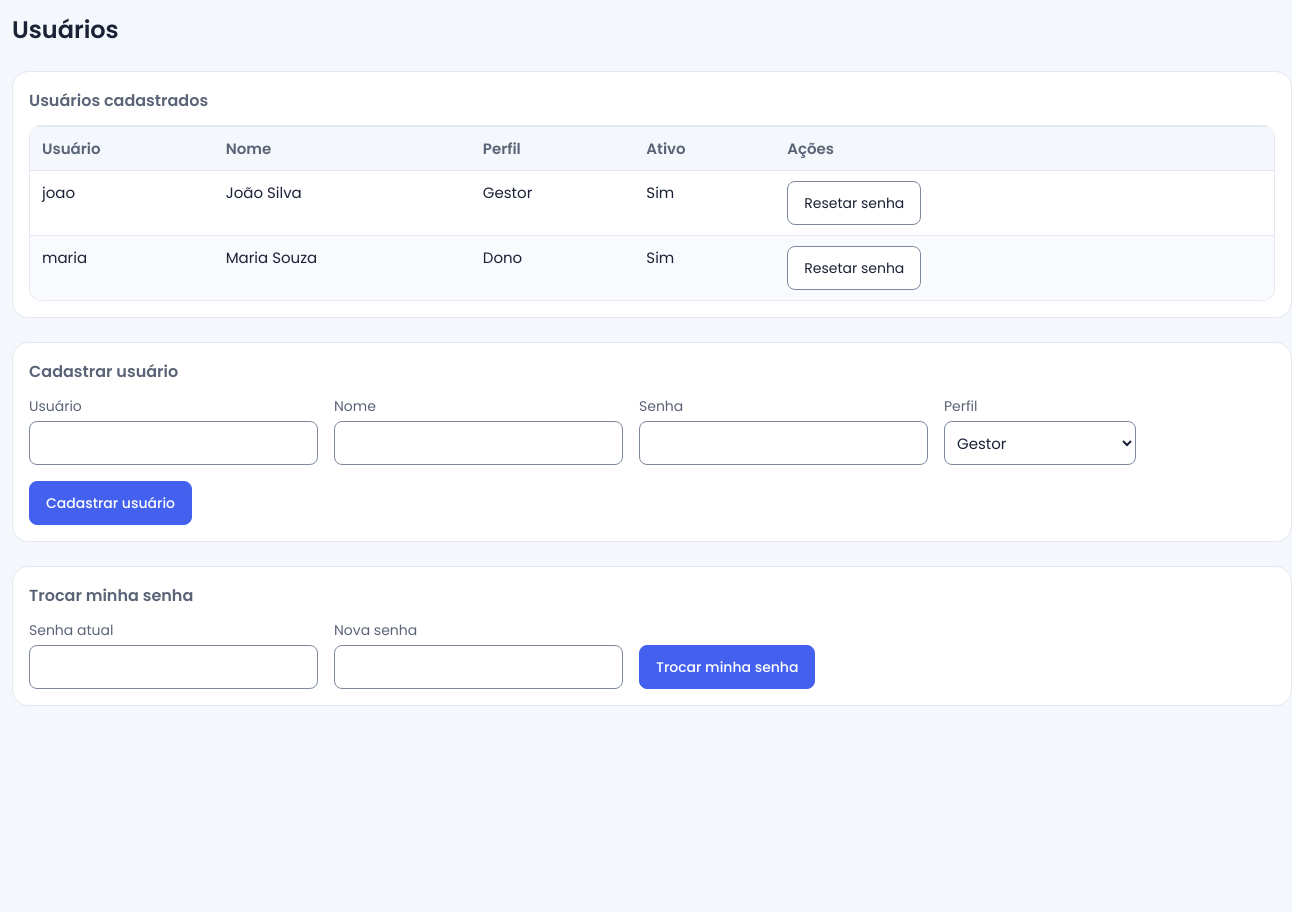
Test: UsuariosPage › trocar a própria senha informando a senha atual errada (mock retorna erro) exibe mensagem de erro e mantém a sessão logada
expect the cell "joao" is shown: met, box [30,170,214,236]
Type "senhaErrada" into the password field labelled "Senha atual" at [174, 667], box [29,645,318,689]
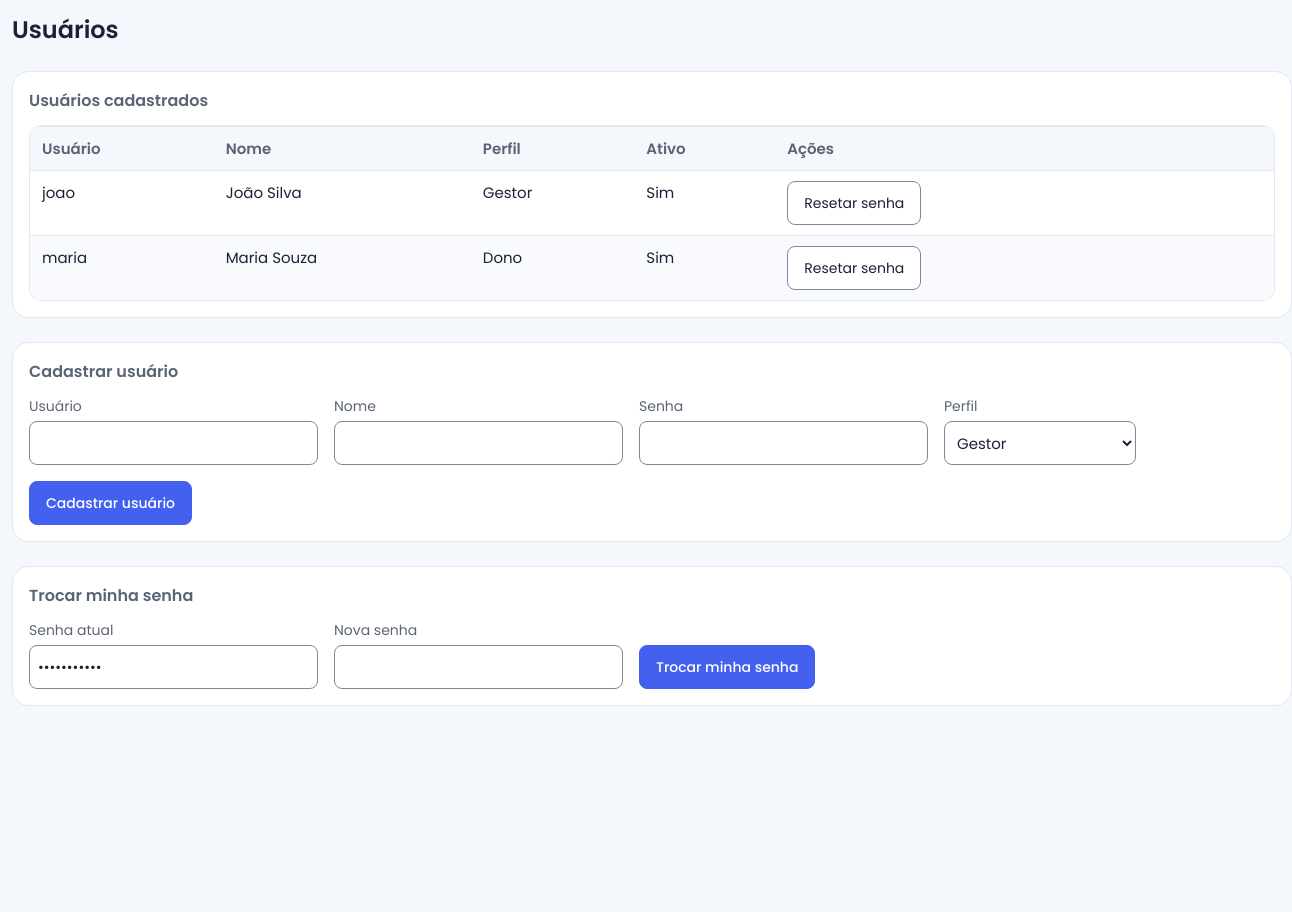
Type "novaSenha123" into the password field labelled "Nova senha" at [478, 667], box [334,645,623,689]
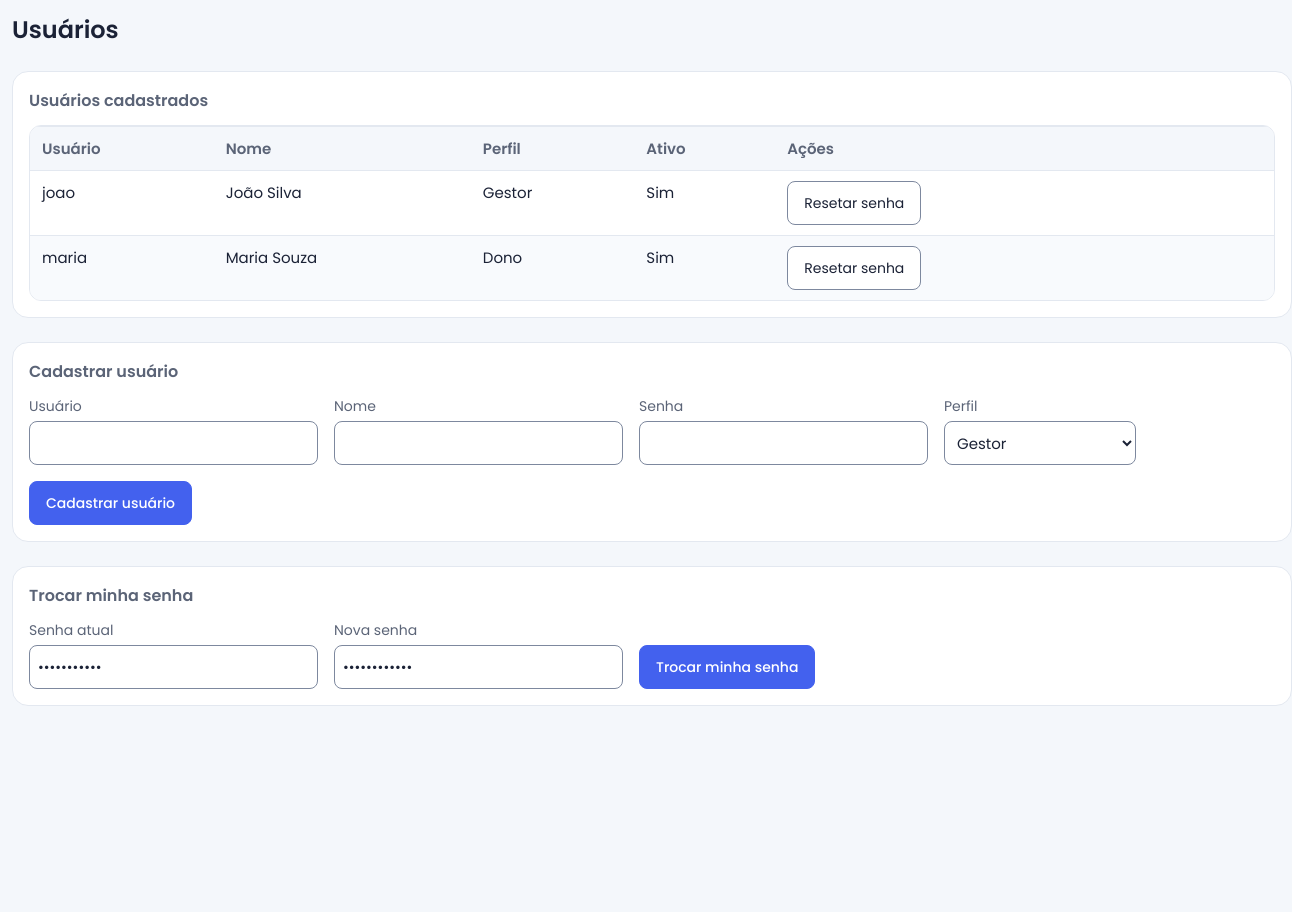
Click the button "Trocar minha senha" at [727, 667], box [639,645,815,689]
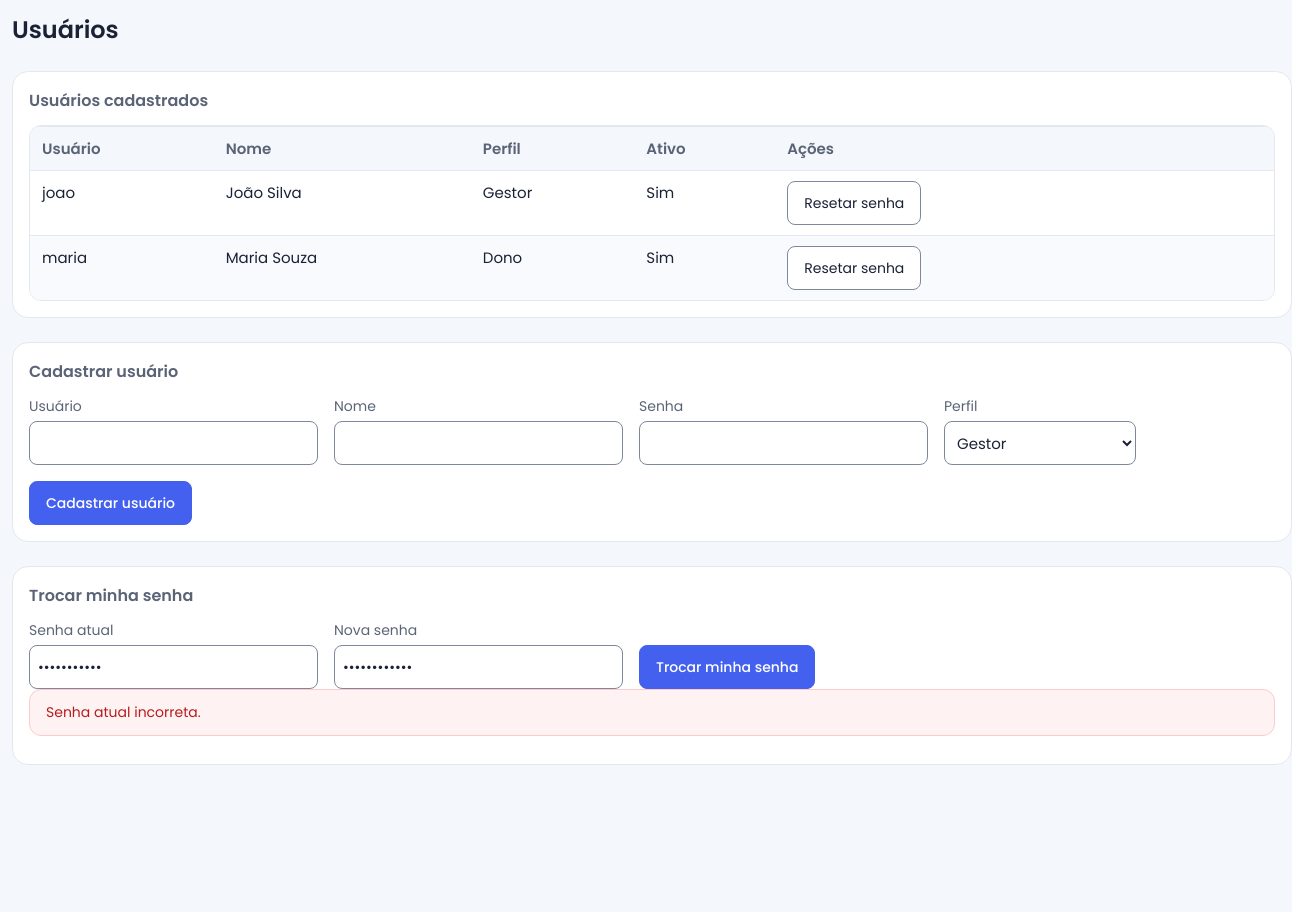
expect the heading "Usuários" is shown: met, box [12,12,119,47]
expect the message reads "Senha atual incorreta.": met, box [46,702,201,722]
